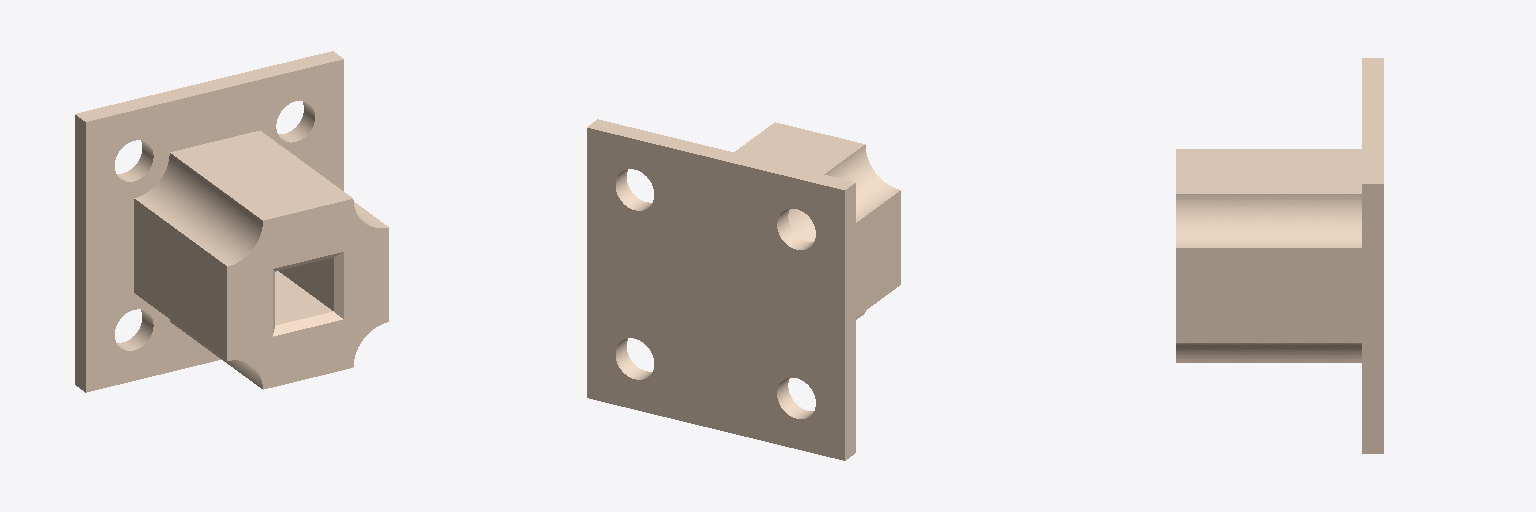
File: industreal_tray_insert_rectangular_peg_8mm.obj
3 renders of one model, left to right at view 1: azimuth 30°, elevation 25°; view 2: azimuth 150°, elevation 25°; view 3: azimuth 270°, elevation 25°, orthographic.
Visible parts, largest first — view 1: industreal_tray_insert_rectangular_peg_8mm; view 2: industreal_tray_insert_rectangular_peg_8mm; view 3: industreal_tray_insert_rectangular_peg_8mm.
Boxes of the visible parts, x1,y1,x2,y2 form: industreal_tray_insert_rectangular_peg_8mm: [75, 51, 388, 392]; industreal_tray_insert_rectangular_peg_8mm: [587, 119, 900, 460]; industreal_tray_insert_rectangular_peg_8mm: [1176, 58, 1383, 453].
Bounding box in the file's own units: 0.04 × 0.04 × 0.028.